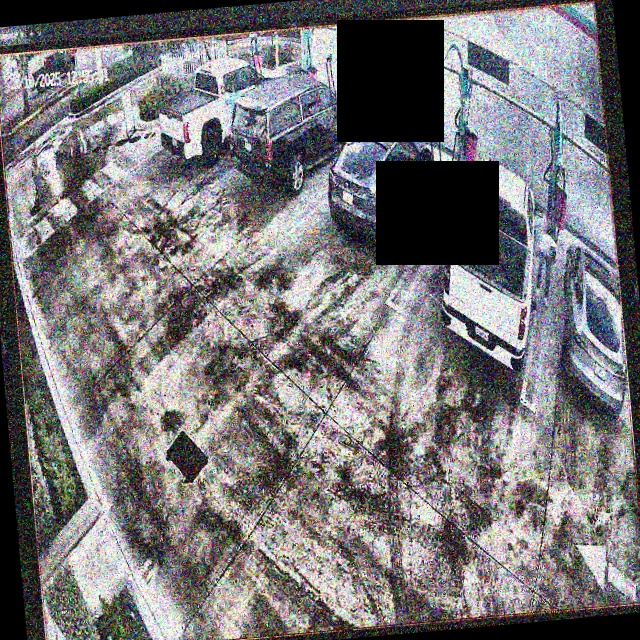Car: (428, 156, 557, 375), (225, 69, 363, 200), (323, 117, 439, 250), (153, 52, 286, 164)
